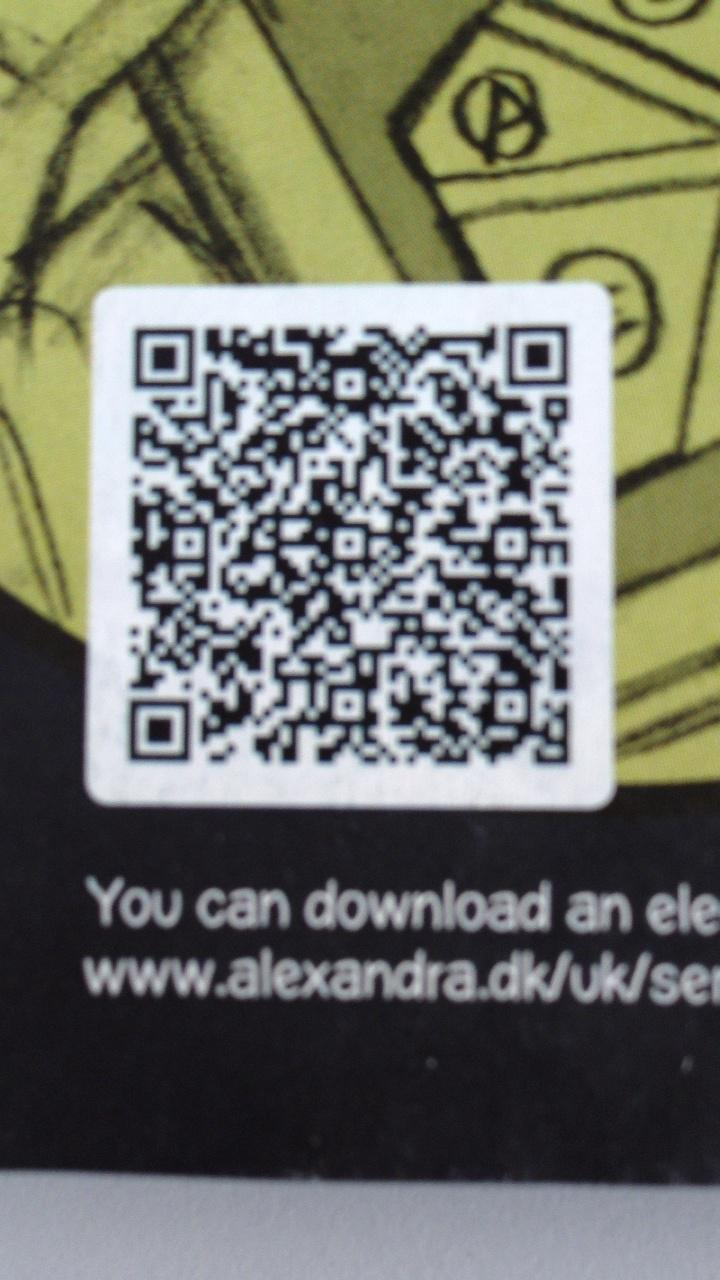Finder pattern: (120, 689, 198, 772), (495, 316, 575, 394), (123, 318, 203, 393)
